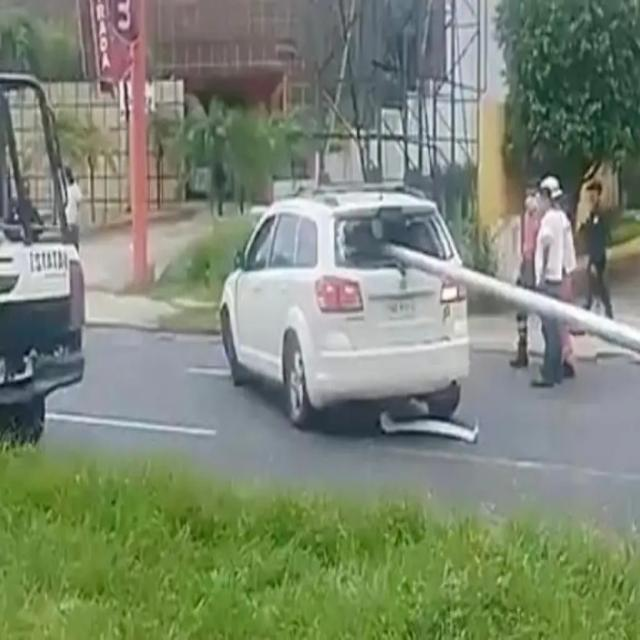Inclined Pole: (350, 229, 640, 351)
